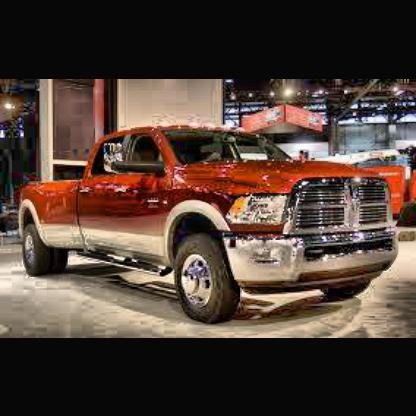Dodge Ram Pickup 3500 Crew Cab 2010: (17, 124, 403, 329)
